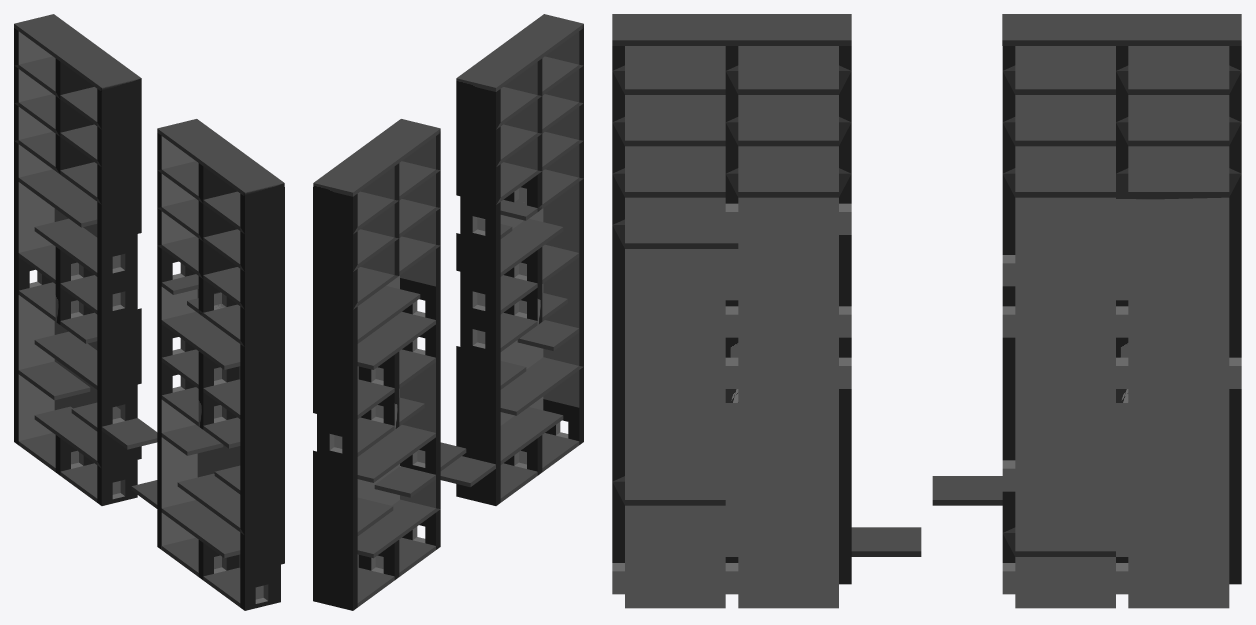
File: Level2.fbx
The picture shows the model from 3 angles, left to right: view 1: azimuth 30°, elevation 25°; view 2: azimuth 150°, elevation 25°; view 3: azimuth 270°, elevation 25°; orthographic projection. The views are drawn at different scales.
Visible parts, largest first — view 1: Level2; view 2: Level2; view 3: Level2.
Boxes of the visible parts, left/top/right/bottom form: Level2: left=14, top=14, right=284, bottom=610; Level2: left=313, top=14, right=583, bottom=610; Level2: left=612, top=14, right=1241, bottom=608.
Bounding box in the file's own units: 10 × 100 × 100.
Materials: 1 (1 with a texture image).
